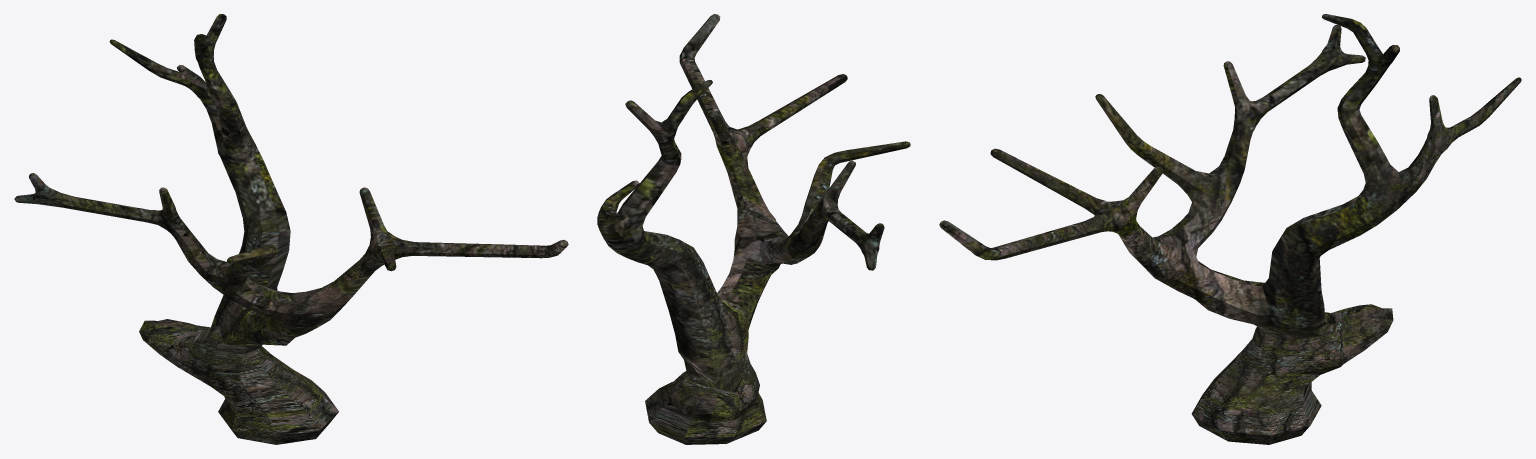
The model's file is bush1.obj.
The picture shows the model from 3 angles, left to right: view 1: azimuth 30°, elevation 25°; view 2: azimuth 150°, elevation 25°; view 3: azimuth 270°, elevation 25°; orthographic projection. The views are drawn at different scales.
Visible parts, largest first — view 1: Bush1_Cube.006; view 2: Bush1_Cube.006; view 3: Bush1_Cube.006.
Boxes of the visible parts, left/top/right/bottom form: Bush1_Cube.006: left=14, top=14, right=568, bottom=444; Bush1_Cube.006: left=597, top=14, right=910, bottom=444; Bush1_Cube.006: left=939, top=14, right=1521, bottom=444.
Bounding box in the file's own units: 4.08 × 3.97 × 5.31.
